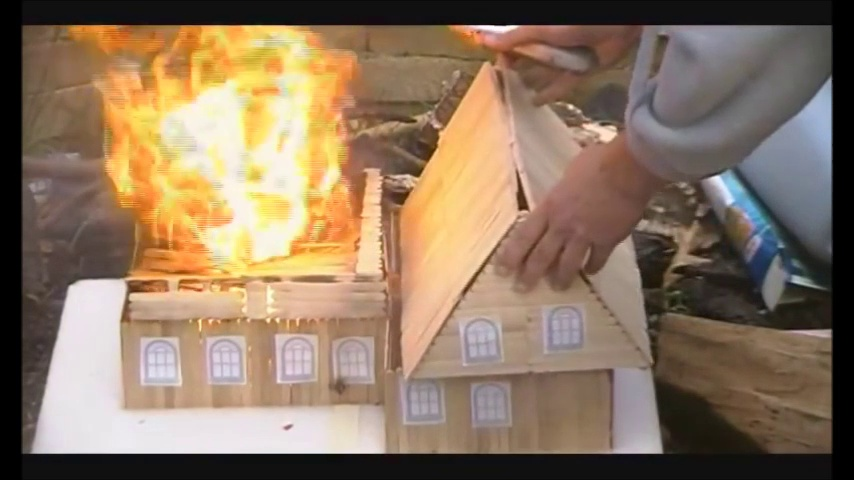fire: (98, 25, 350, 265)
